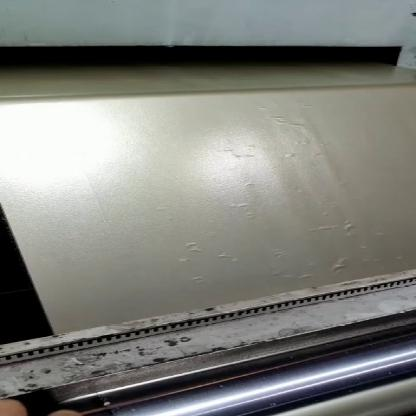Blisters: (265, 111, 307, 135), (220, 192, 258, 213), (176, 239, 209, 257), (338, 217, 359, 238), (327, 262, 351, 270)
